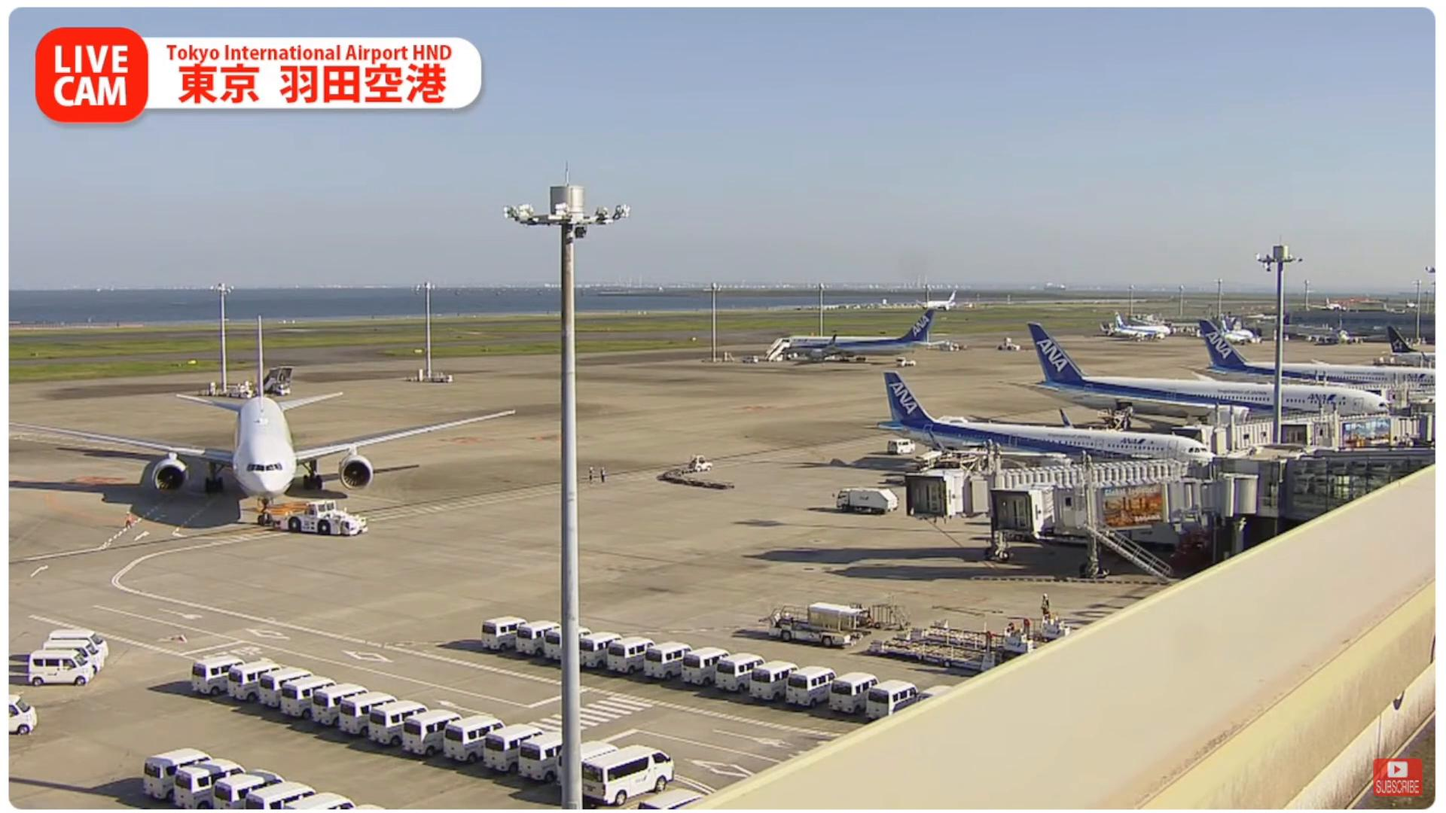APS: (279, 498, 373, 543)
Aerobridge: (904, 456, 1198, 520), (990, 479, 1258, 539)
Airplane: (4, 313, 520, 531)
JCPL: (904, 613, 1077, 658), (867, 634, 1012, 675)
Skyloader: (761, 600, 870, 651)
Window: (1281, 462, 1437, 524)
